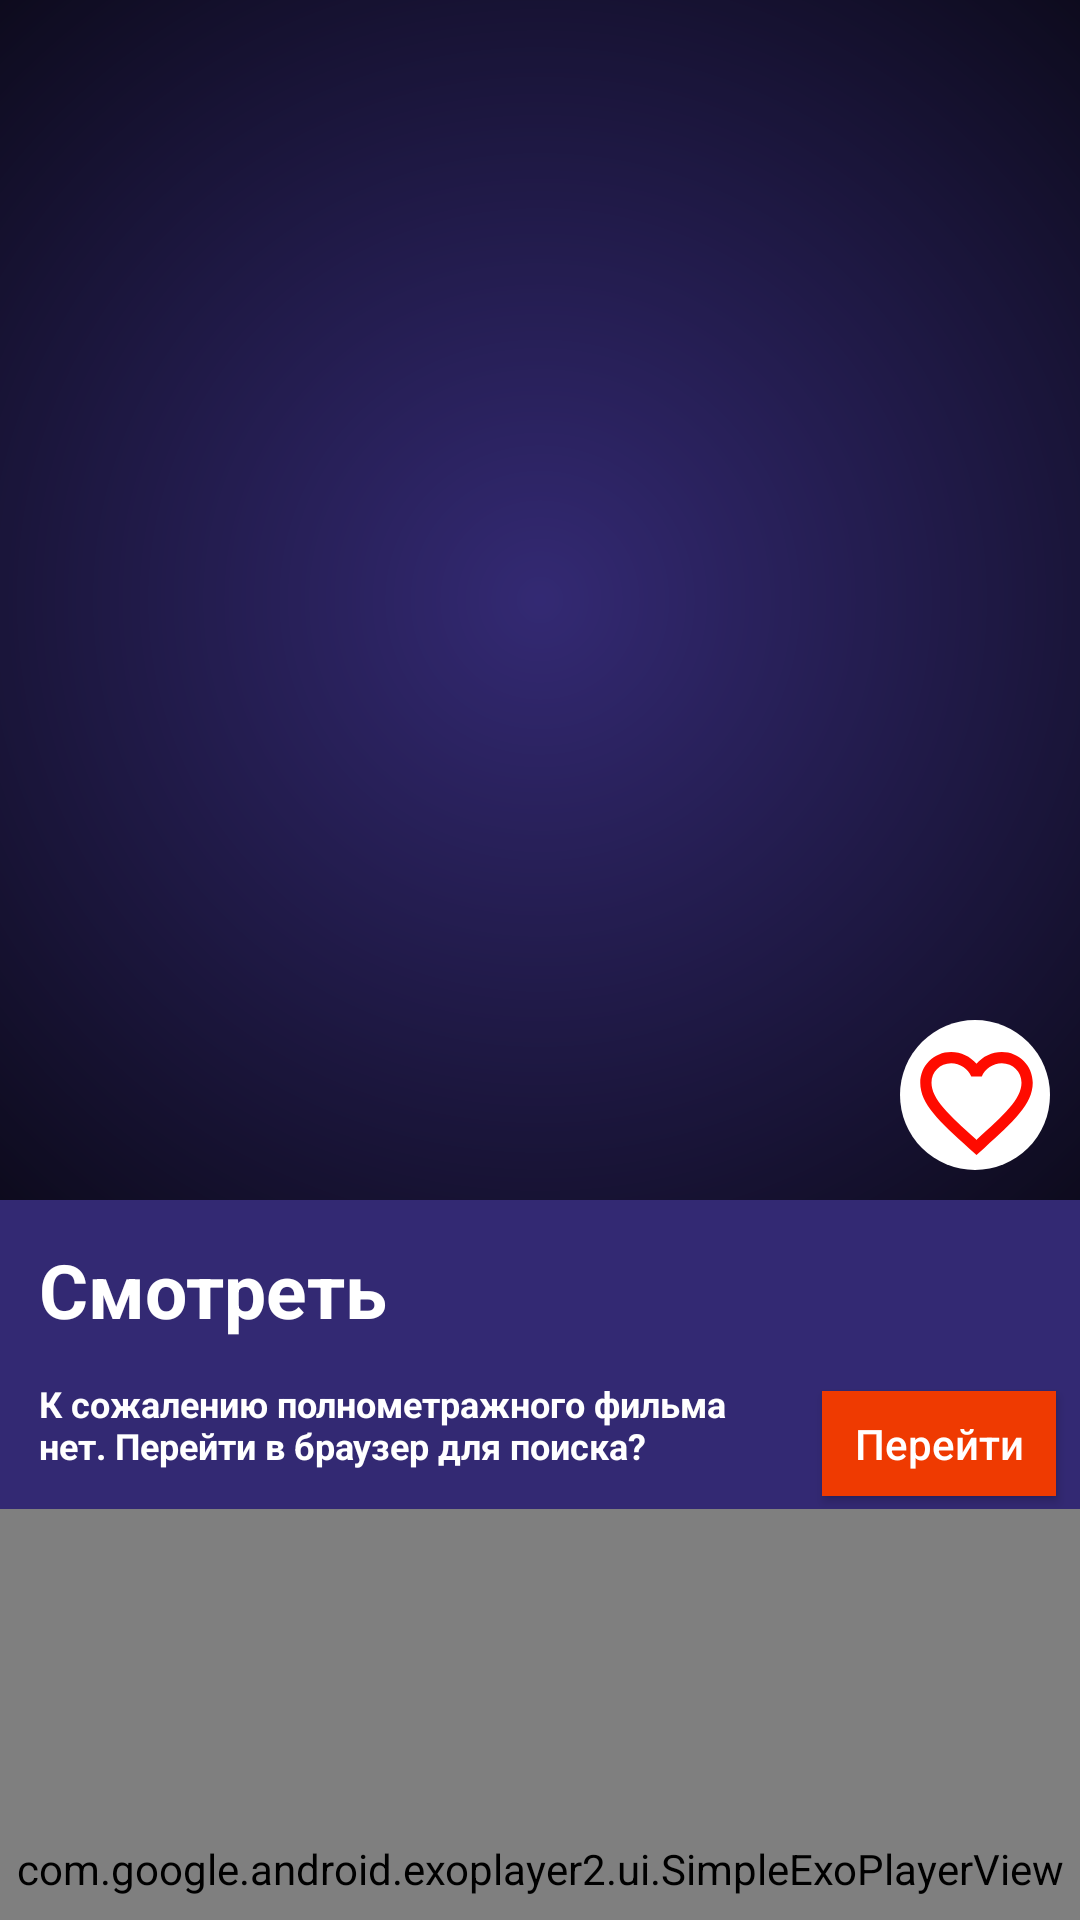

Icons on this 1080×1920 Android screen, each with the point to tap as (x=x, y=y):
favorite border: (x=976, y=1102)
